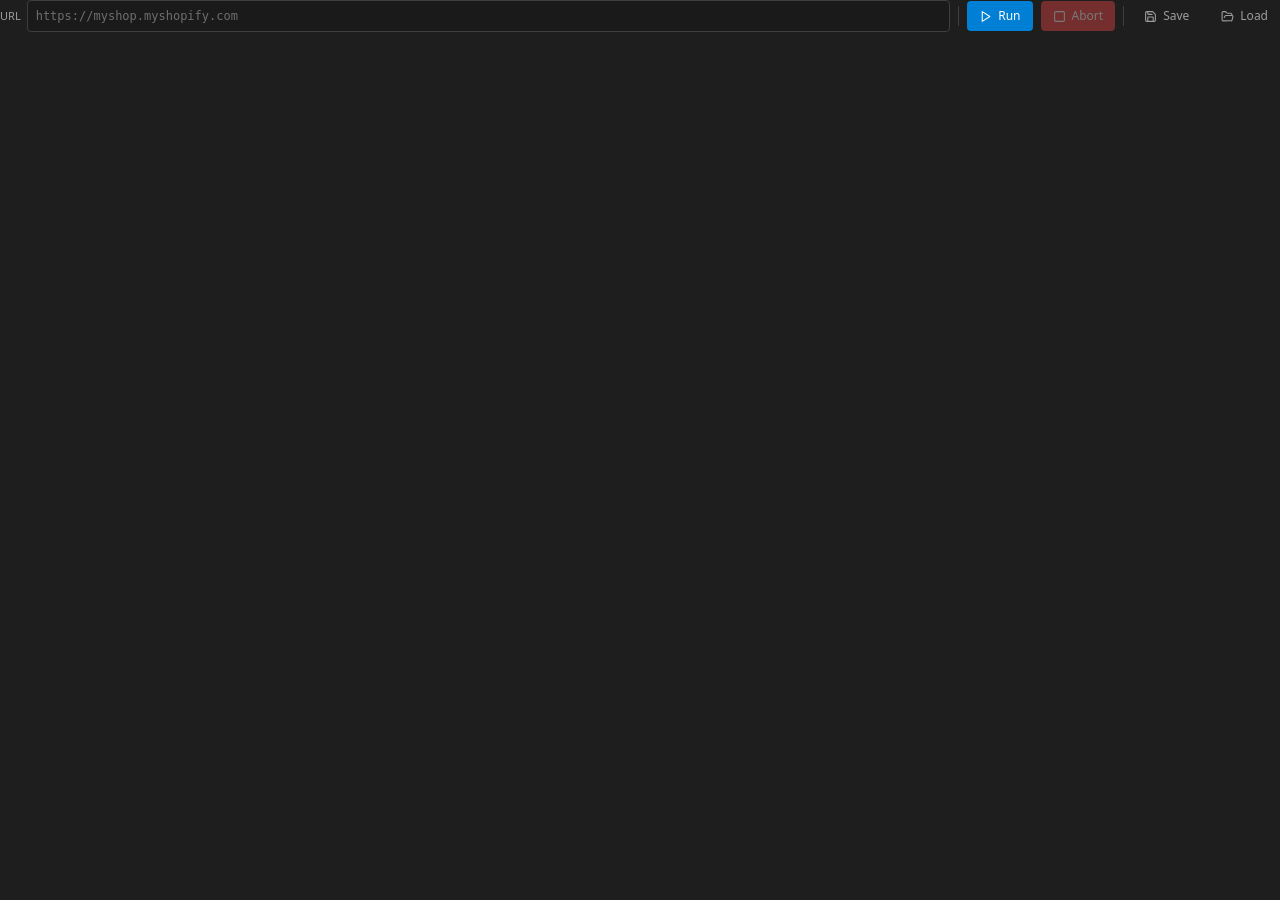
Test: Toolbar › opens Save dialog when Save button is clicked
The width and height of the screenshot is (1280, 900).
Click the button with aria-label "save test suite". click: click(1167, 16)
box: [1132,1,1201,31]
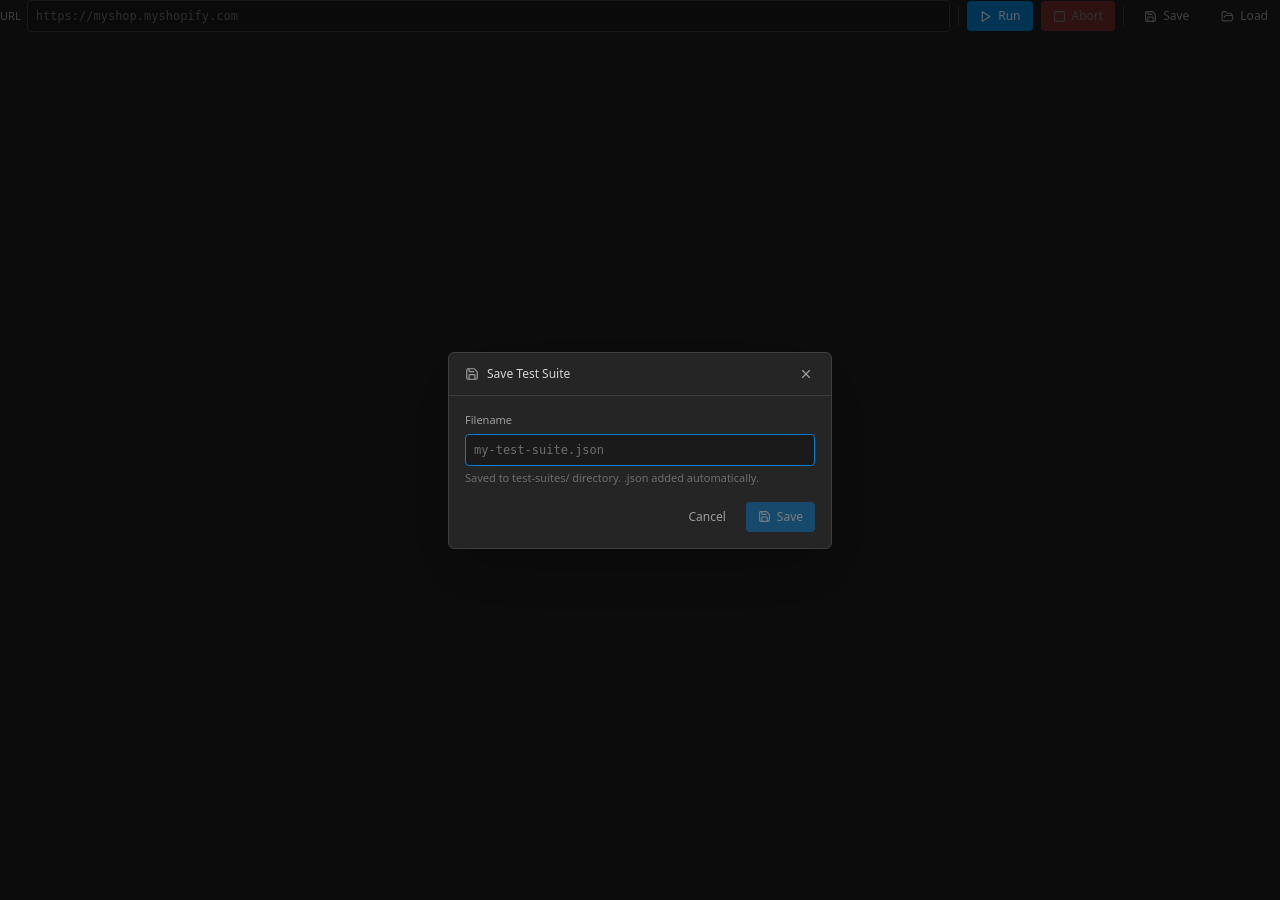
Expected: the dialog "Save Test Suite" is shown
